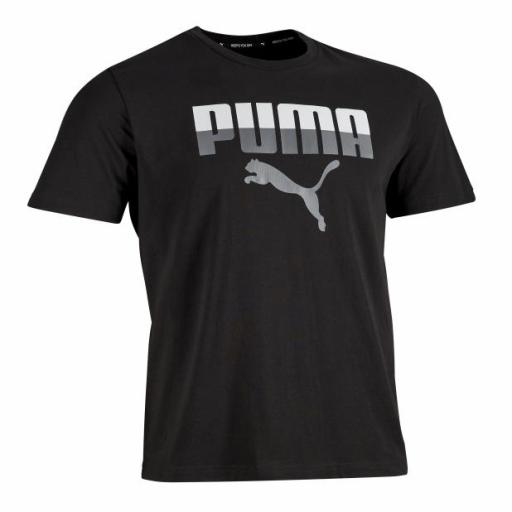Puma: (241, 156, 343, 236)
